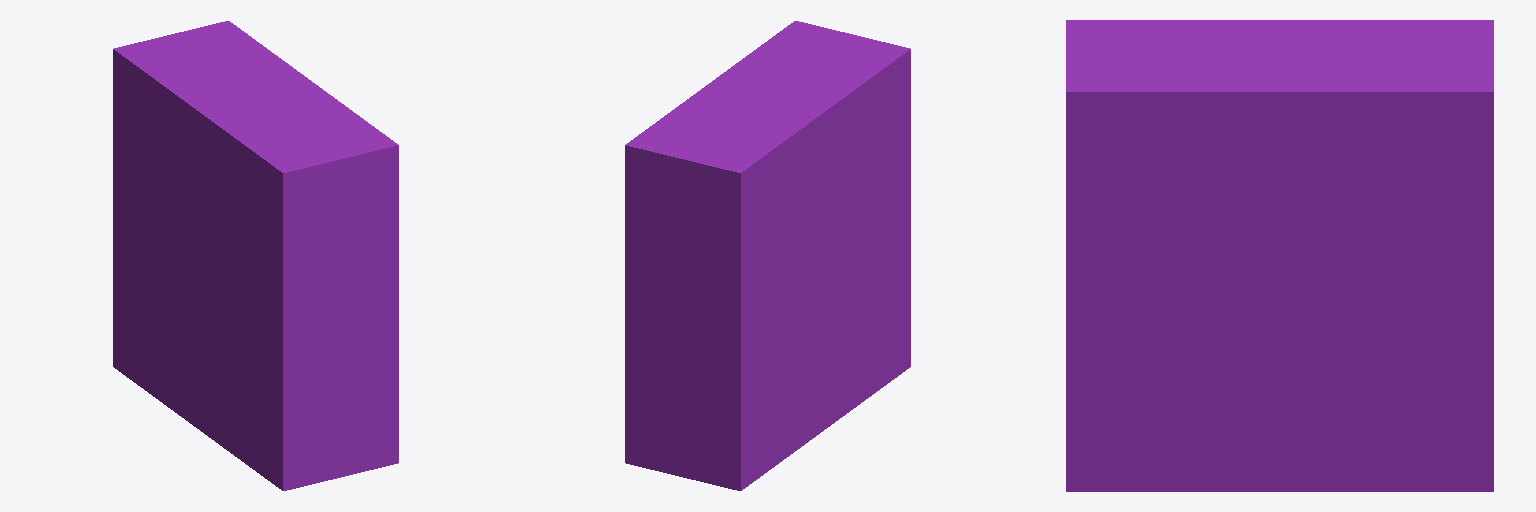
The robot description file, URDF, robot "random_box":
<?xml version='1.0' encoding='UTF-8'?>
<robot name="random_box">
  <link name="box">
    <visual>
      <geometry>
        <box size="0.011436089871387108 0.029129310844446102 0.03"/>
      </geometry>
      <material name="color">
        <color rgba="0.6593126493379589 0.28100241262910164 0.7950455186090346 1"/>
      </material>
    </visual>
    <collision>
      <geometry>
        <box size="0.011436089871387108 0.029129310844446102 0.03"/>
      </geometry>
    </collision>
  </link>
</robot>

--- What the picture shows (computed from the rendered views, not written in the file) ---
3 views of the same robot in one strip: view 1: azimuth 30°, elevation 25°; view 2: azimuth 150°, elevation 25°; view 3: azimuth 270°, elevation 25° (orthographic).
Robot: random_box — 1 links, 0 joints (none); root link box; default pose: all joints at 0.
Links seen in each view (by area): view 1: box; view 2: box; view 3: box.
Link boxes in pixels (<box>): box: <box>113,21,398,490</box>; box: <box>625,21,910,490</box>; box: <box>1066,20,1493,491</box>.
Bounding box of the posed robot: 0.0114 × 0.0291 × 0.03 m (x, y, z).
Geometry: primitives only (box / cylinder / sphere), no mesh files.